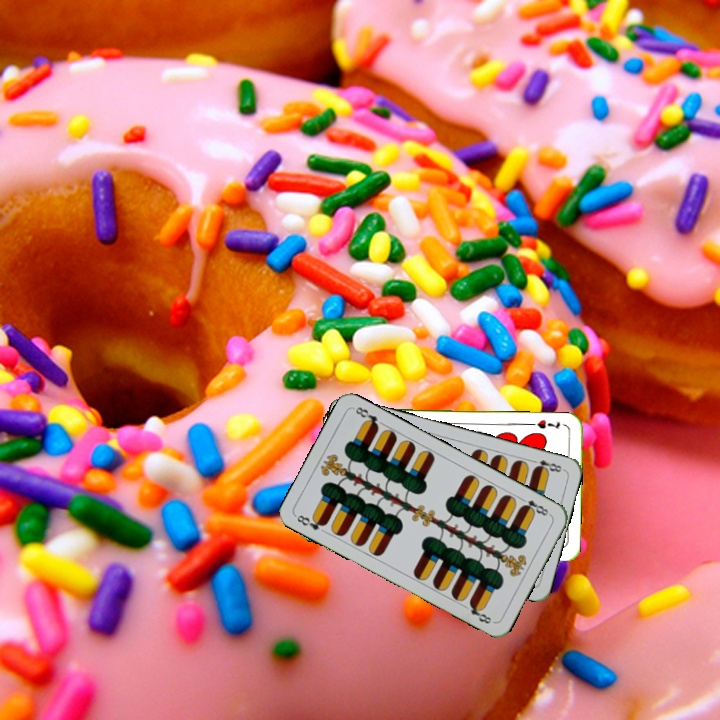E8: (516, 493, 553, 519), (291, 511, 329, 533), (527, 455, 566, 475)
H7: (533, 416, 563, 431)
